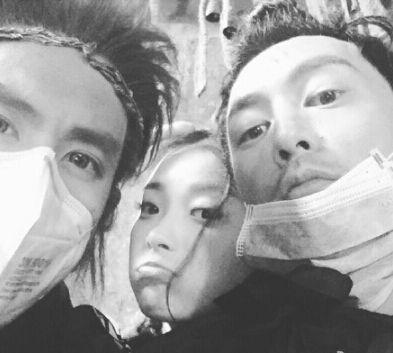NONE: (129, 185, 240, 321)
OK: (1, 81, 129, 328)
WRONG: (227, 59, 393, 254)
